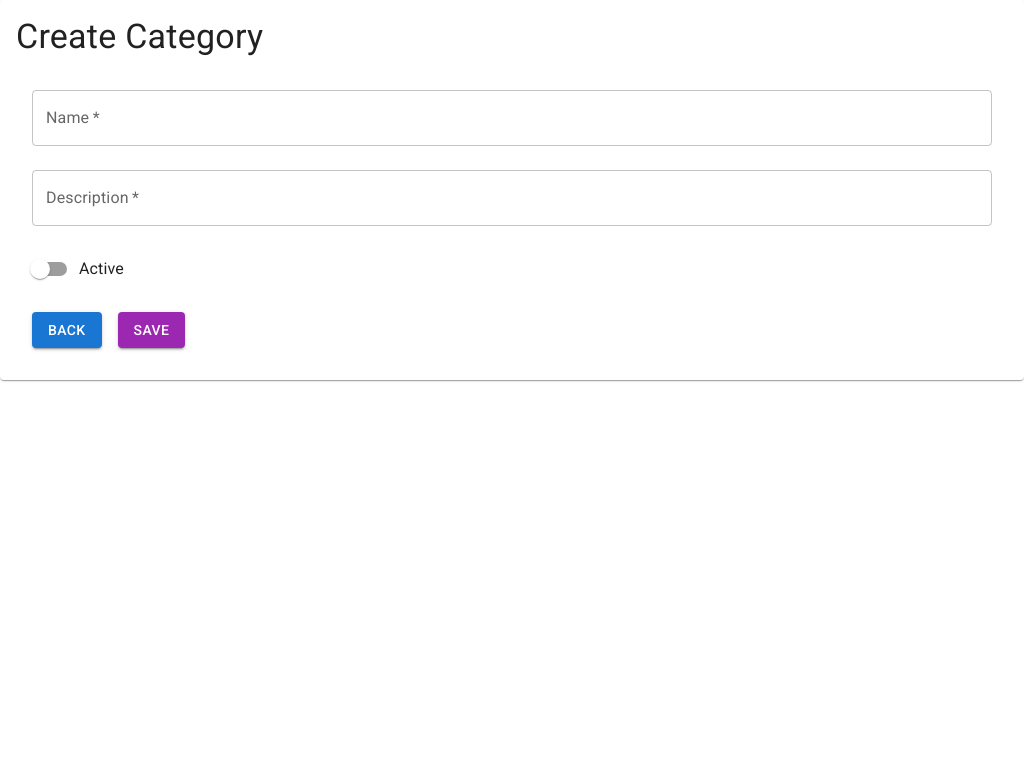
Test: Test CreateCategory page › should handle submit error
Type "Test Name" into the field with test id "name-input" at (512, 118), box [32,90,992,146]
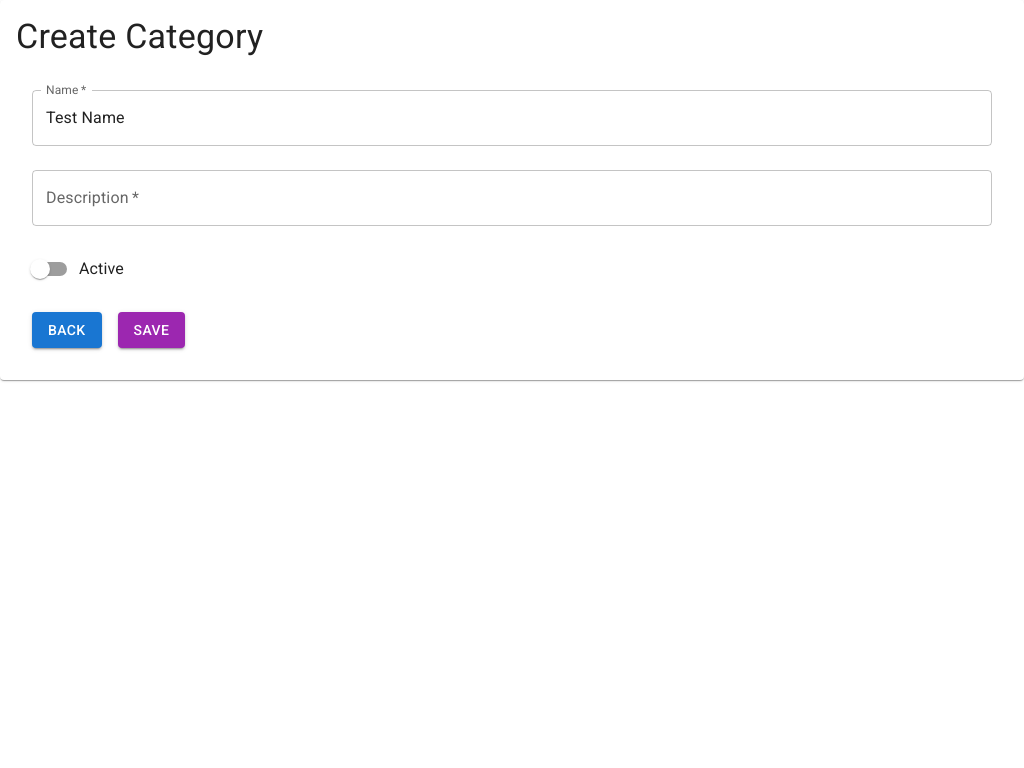
Type "Test Description" into the field with test id "description-input" at (512, 198), box [32,170,992,226]
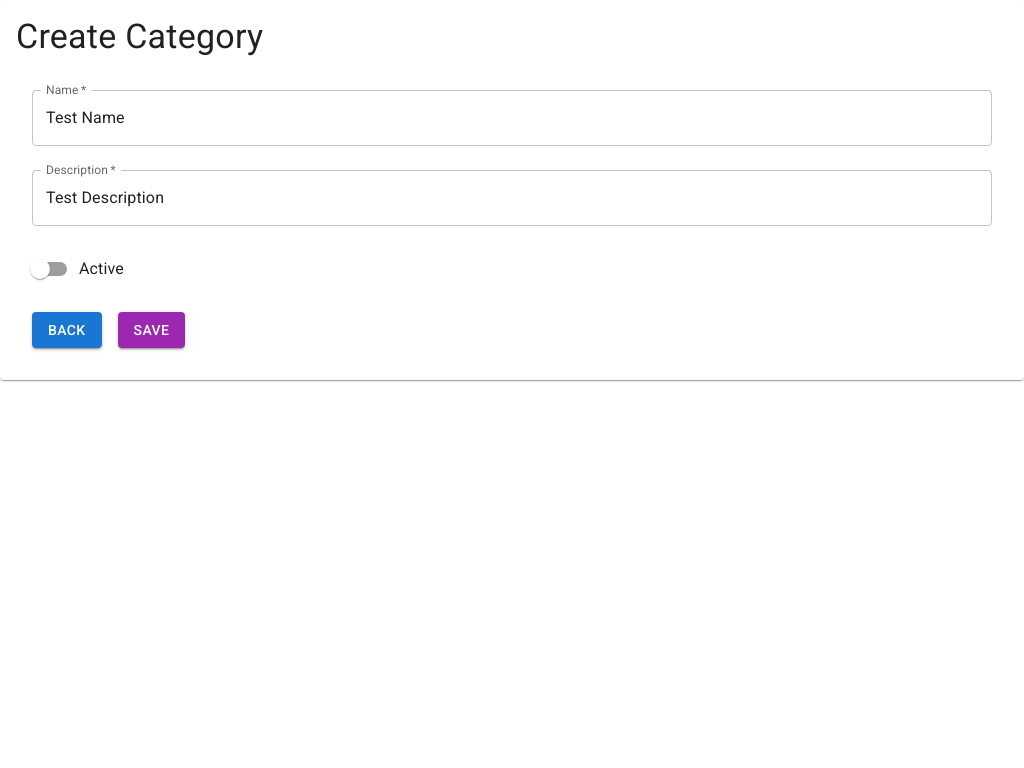
Click the button "Save" at (152, 330), box [118,312,185,348]
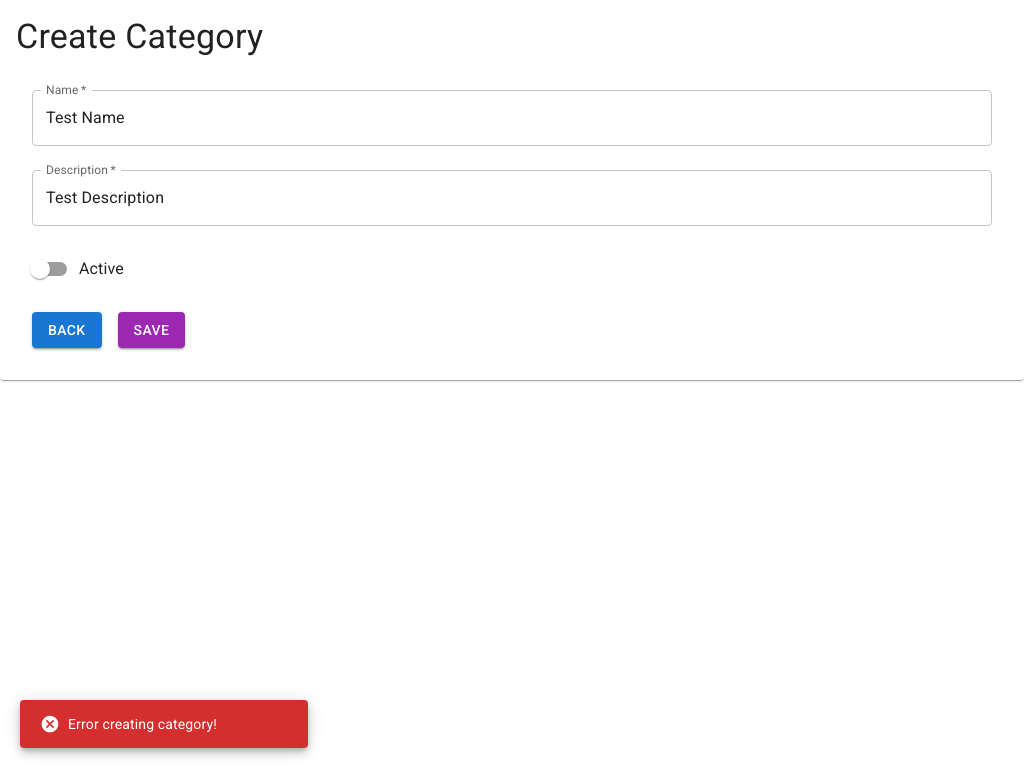
Expected: the text "Error creating category!" is shown, [40,714,217,734]
